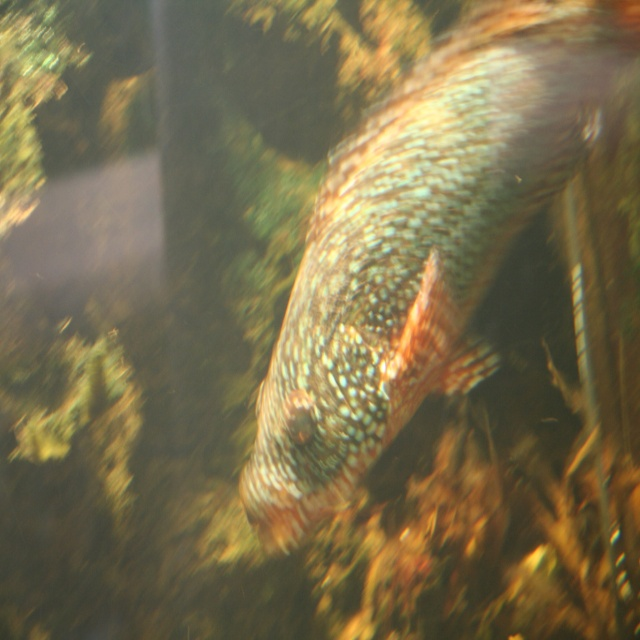Fish: (237, 0, 640, 569)
